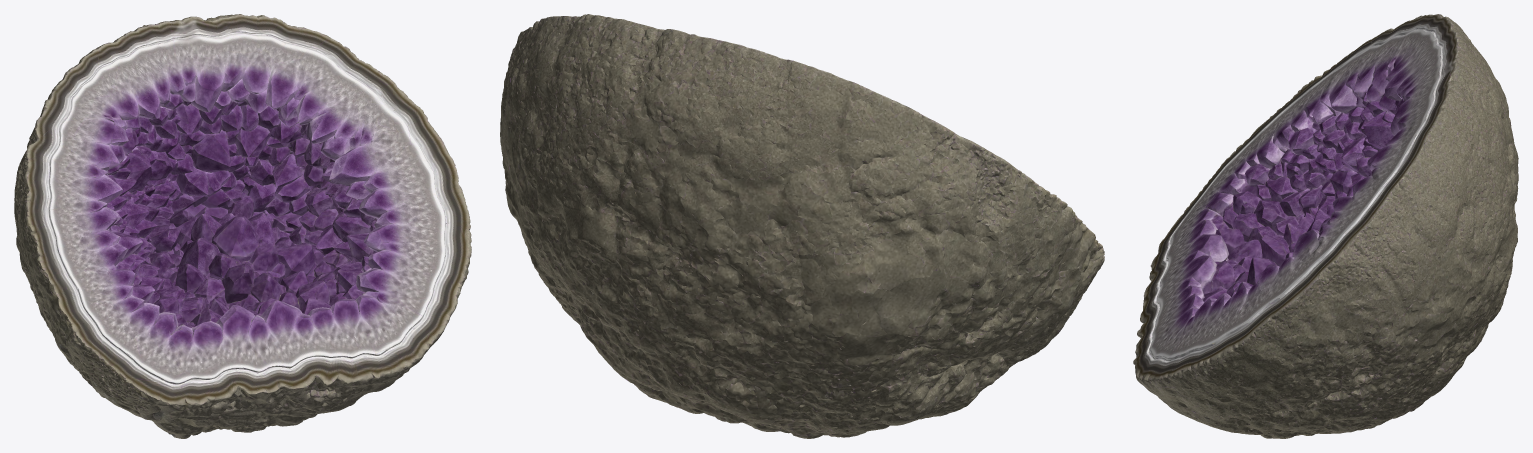
File: geode.glb
The picture shows the model from 3 angles, left to right: view 1: azimuth 30°, elevation 25°; view 2: azimuth 150°, elevation 25°; view 3: azimuth 270°, elevation 25°; orthographic projection. The views are drawn at different scales.
Parts seen in each view (by area): view 1: Mesh_0; view 2: Mesh_0; view 3: Mesh_0.
Boxes of the visible parts, bbox=[...] form: Mesh_0: bbox=[14, 14, 471, 438]; Mesh_0: bbox=[500, 14, 1104, 438]; Mesh_0: bbox=[1133, 14, 1518, 438].
Size of the model in its own units: 1.9 by 1.48 by 1.43.
Materials: 1 (1 with a texture image).
